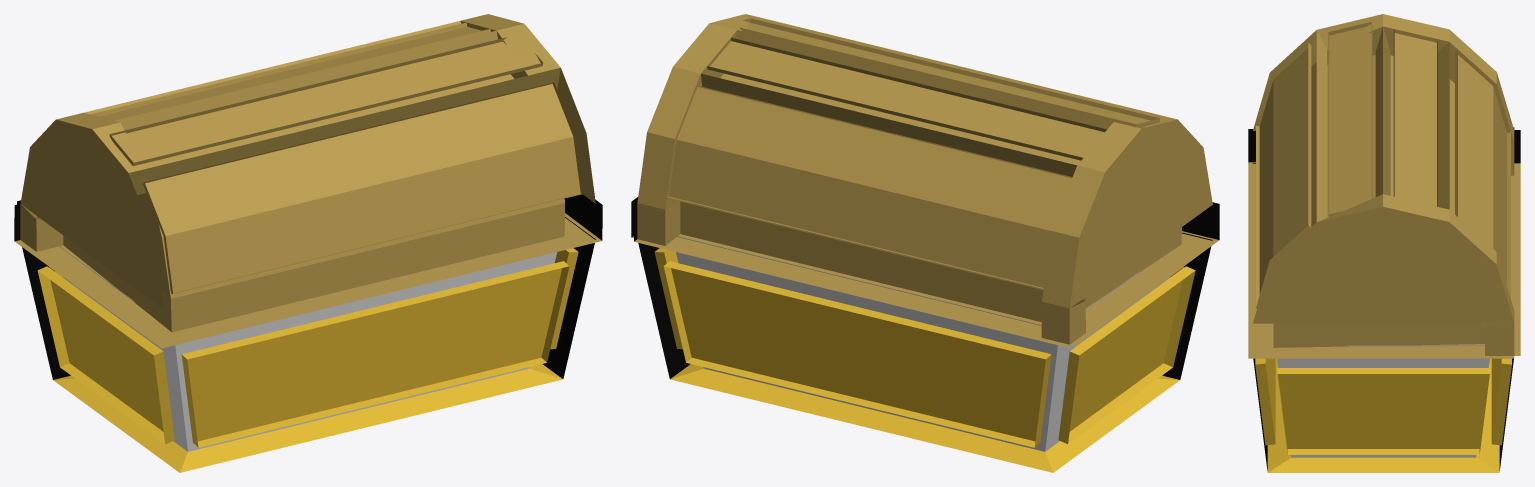
File: chest-whole.fbx
The picture shows the model from 3 angles, left to right: view 1: azimuth 30°, elevation 25°; view 2: azimuth 150°, elevation 25°; view 3: azimuth 270°, elevation 25°; orthographic projection. The views are drawn at different scales.
Parts seen in each view (by area): view 1: Plane, Plane.001; view 2: Plane, Plane.001; view 3: Plane, Plane.001.
Boxes of the visible parts, x1,y1,x2,y2 form: Plane: [14, 14, 602, 348]; Plane.001: [22, 217, 595, 472]; Plane: [631, 14, 1219, 346]; Plane.001: [638, 232, 1212, 472]; Plane: [1248, 14, 1520, 358]; Plane.001: [1253, 163, 1513, 472].
Bounding box in the file's own units: 206 × 134 × 119.
